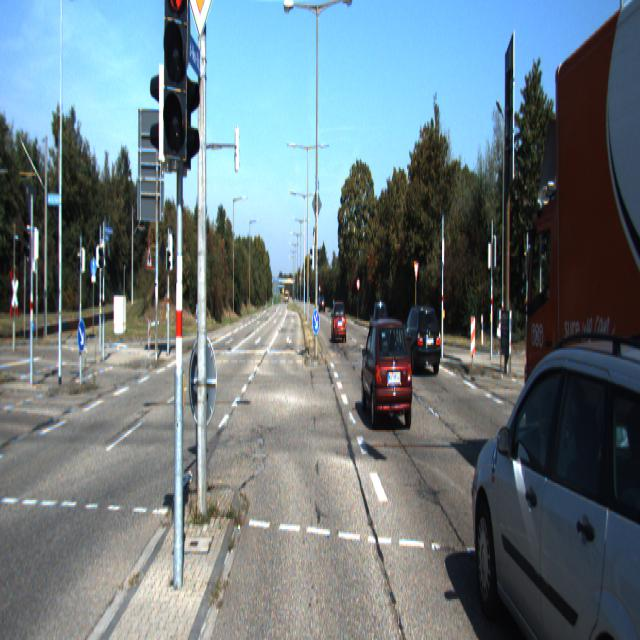Car: (514, 0, 639, 572), (470, 324, 640, 638), (360, 314, 412, 435), (400, 302, 442, 377), (368, 300, 390, 348), (331, 301, 346, 344)
